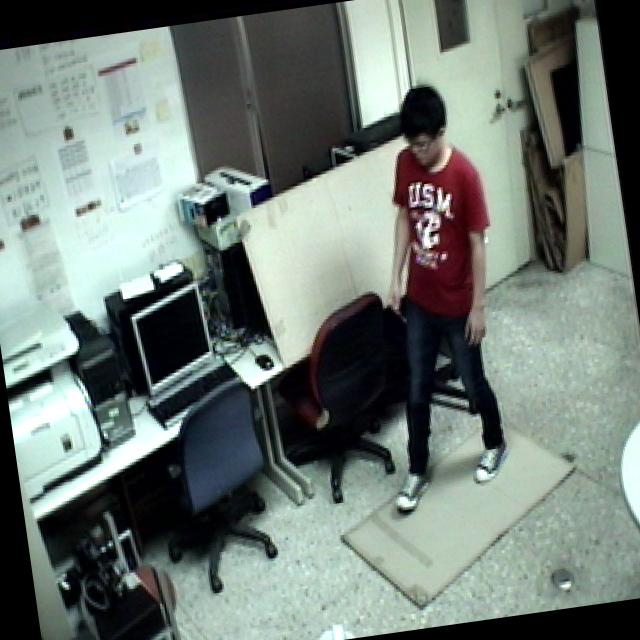stand: (320, 60, 533, 522)
